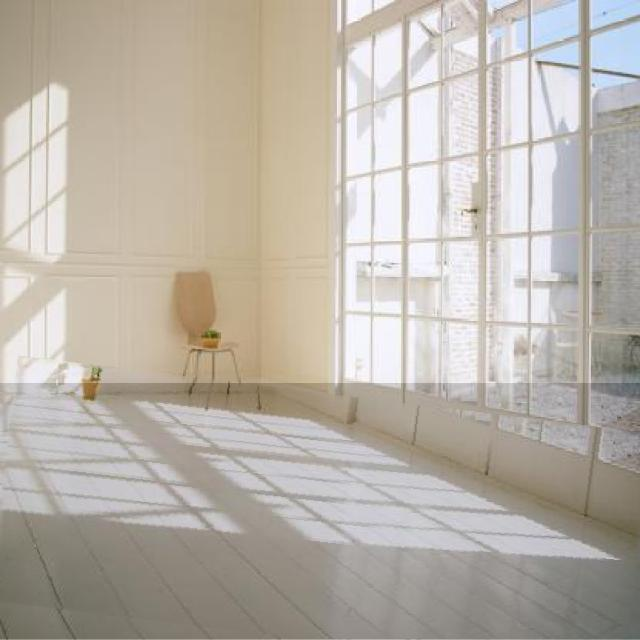floor: (0, 383, 640, 640)
